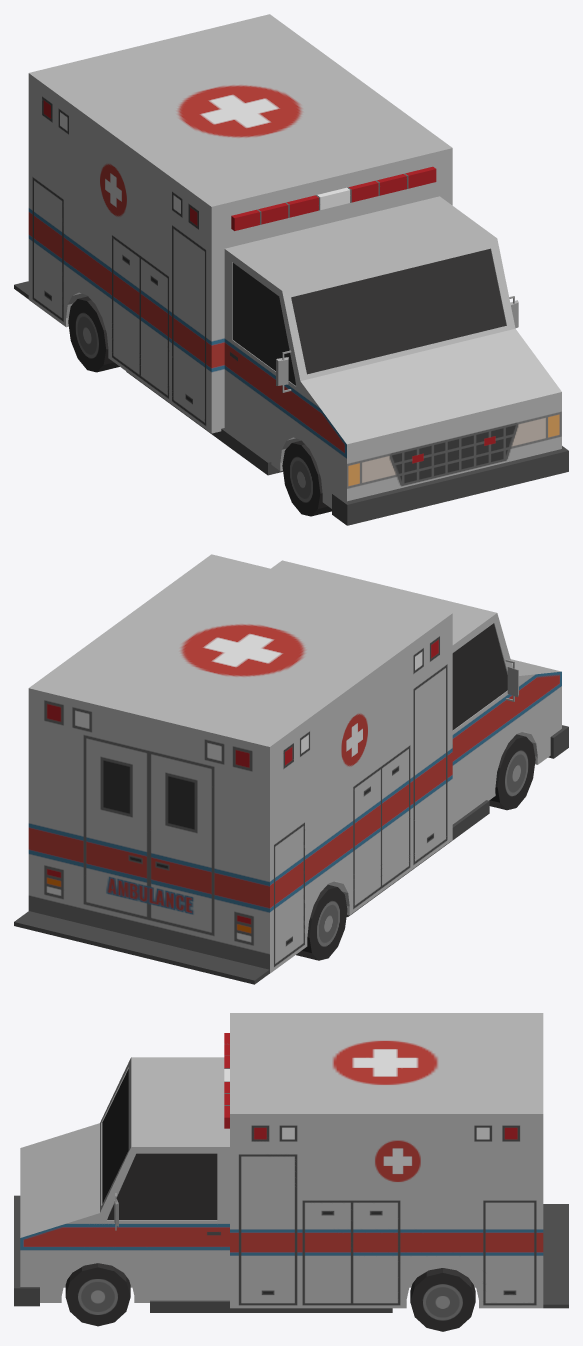
File: ambulance.gltf
The picture shows the model from 3 angles, top to bottom: view 1: azimuth 30°, elevation 25°; view 2: azimuth 150°, elevation 25°; view 3: azimuth 270°, elevation 25°; orthographic projection. The views are drawn at different scales.
Visible parts, largest first — view 1: Vehicle_Ambulance; view 2: Vehicle_Ambulance; view 3: Vehicle_Ambulance.
Boxes of the visible parts, <box> form: Vehicle_Ambulance: <box>14,14,568,525</box>; Vehicle_Ambulance: <box>14,554,568,984</box>; Vehicle_Ambulance: <box>14,1013,568,1331</box>.
Size of the model in its own units: 2.93 by 2.95 by 6.81.
1 material, 1 textured.
